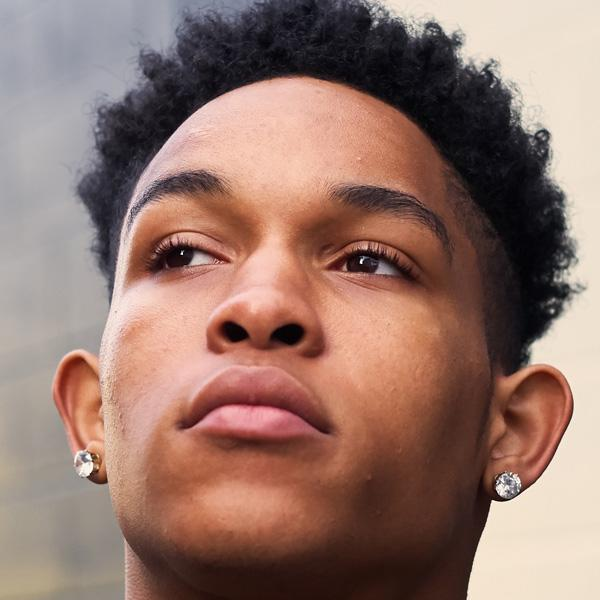Eyes: (311, 222, 427, 301), (135, 220, 238, 295)
